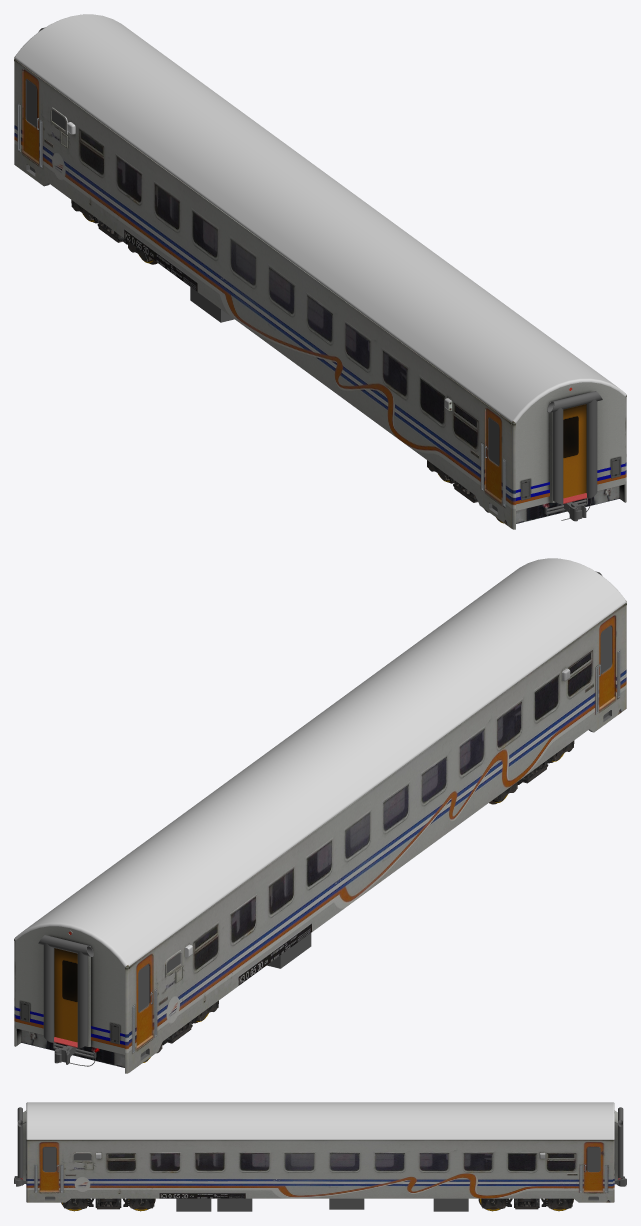
File: passenger-economy-original.glb
3 renders of one model, top to bottom at view 1: azimuth 30°, elevation 25°; view 2: azimuth 150°, elevation 25°; view 3: azimuth 270°, elevation 25°, orthographic. The views are drawn at different scales.
Parts seen in each view (by area): view 1: Material2 (×8); view 2: Material2 (×8); view 3: Material2 (×7).
Boxes of the visible parts, <box> form: Material2 (×8): <box>14,14,626,529</box>; Material2 (×8): <box>14,558,626,1073</box>; Material2 (×7): <box>14,1102,626,1211</box>.
Size of the model in its own units: 131 by 170 by 971.
19 materials, 12 textured.
